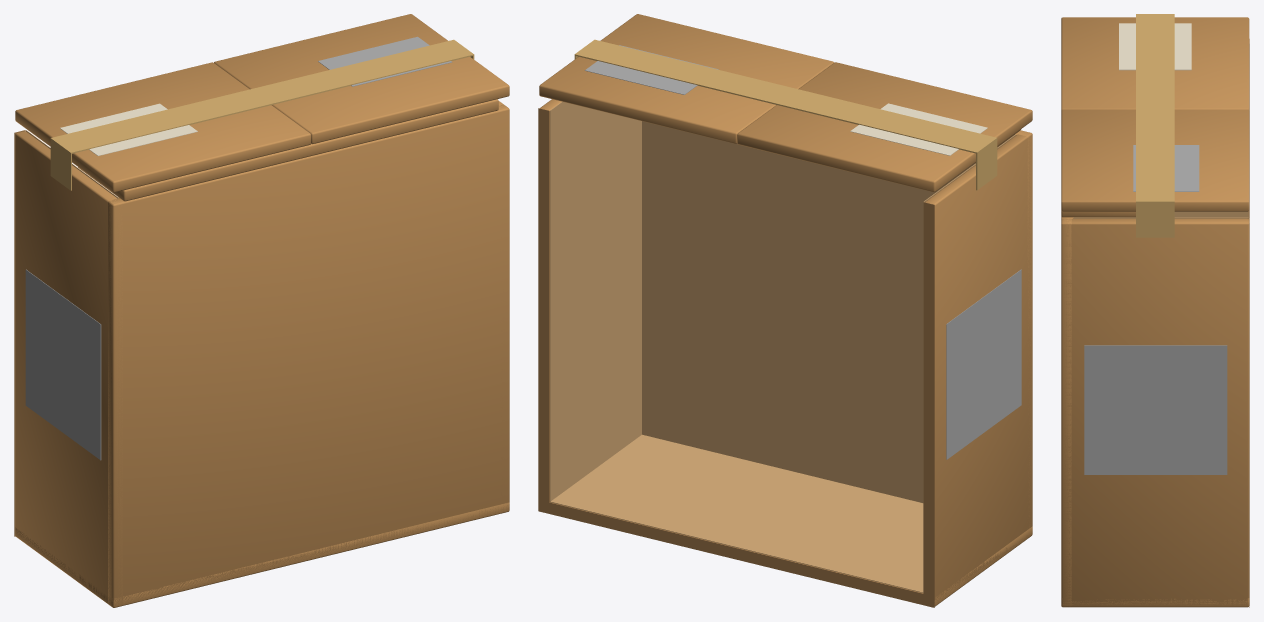
The picture shows the model from 3 angles, left to right: view 1: azimuth 30°, elevation 25°; view 2: azimuth 150°, elevation 25°; view 3: azimuth 270°, elevation 25°; orthographic projection. The views are drawn at different scales.
Visible parts, largest first — view 1: box_3x3, FlapR, FlapL, Tape, FlapB; view 2: box_3x3, FlapR, FlapL, Tape; view 3: box_3x3, FlapL, FlapR, Tape, FlapB.
Part boxes in pixels (x1,y1,x2,y2): box_3x3: [14, 101, 509, 607]; FlapR: [15, 62, 310, 192]; FlapL: [214, 14, 509, 144]; Tape: [50, 39, 474, 190]; FlapB: [78, 99, 498, 201]; box_3x3: [538, 99, 1032, 607]; FlapR: [737, 62, 1032, 192]; FlapL: [539, 14, 834, 143]; Tape: [574, 39, 997, 190]; box_3x3: [1061, 39, 1249, 607]; FlapL: [1061, 109, 1249, 211]; FlapR: [1061, 17, 1249, 110]; Tape: [1136, 14, 1174, 237]; FlapB: [1061, 211, 1135, 217].
Size of the model in its own units: 0.807 by 0.8185 by 0.3428.
